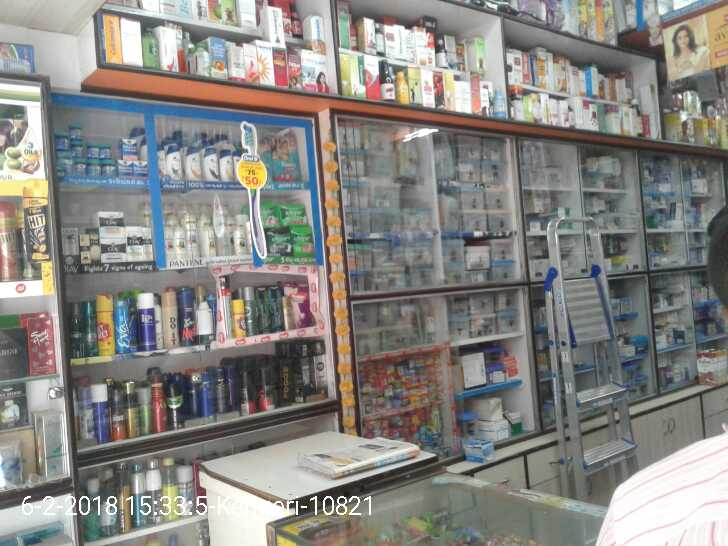beauty: (158, 205, 185, 262), (186, 215, 216, 258), (124, 223, 152, 263), (219, 145, 246, 184), (228, 215, 251, 255), (158, 146, 183, 182), (99, 206, 126, 236), (201, 136, 217, 185), (179, 148, 202, 182), (101, 236, 122, 265)
pharmacy: (266, 128, 303, 183), (50, 111, 83, 155), (287, 223, 320, 262), (87, 155, 120, 184), (278, 199, 307, 225), (266, 228, 293, 255), (116, 159, 150, 179), (121, 133, 144, 161), (82, 141, 112, 161)
